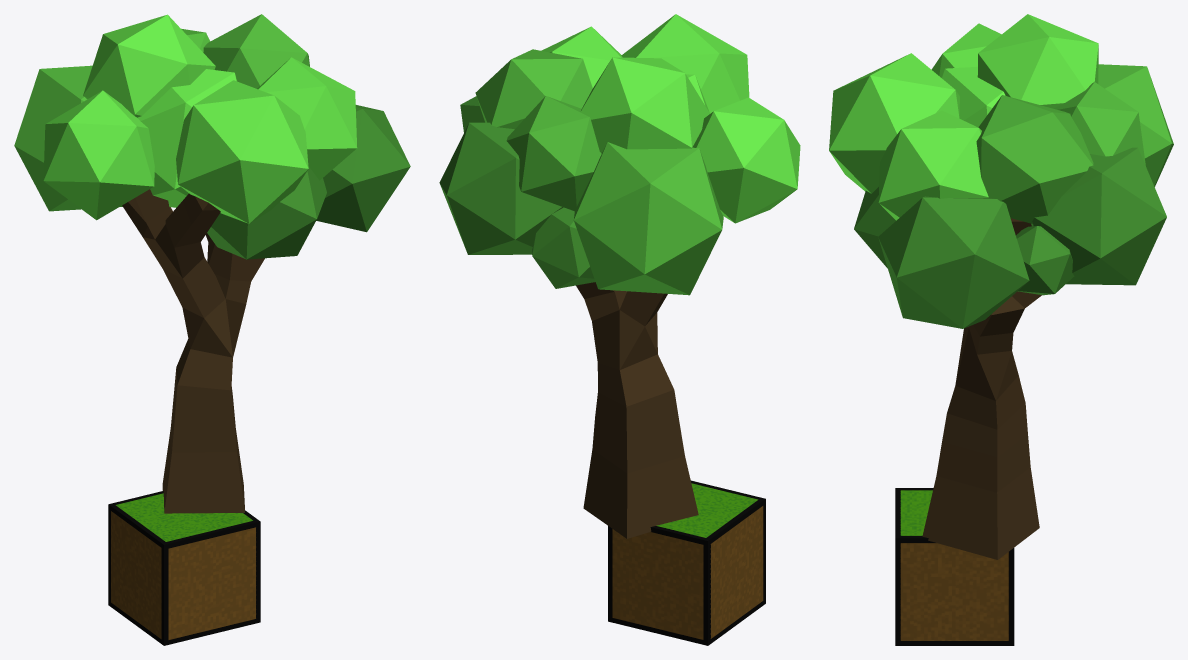
Rendered from TreeMassive1.glb.
The picture shows the model from 3 angles, left to right: view 1: azimuth 30°, elevation 25°; view 2: azimuth 150°, elevation 25°; view 3: azimuth 270°, elevation 25°; orthographic projection. The views are drawn at different scales.
Visible parts, largest first — view 1: Tree big, Grass_v2Baked, Icosphere.011, Icosphere.012, Icosphere.018, Icosphere.016, Icosphere.015, Icosphere.020, Icosphere.013, Icosphere.010, Icosphere.003; view 2: Tree big, Grass_v2Baked, Icosphere.013, Icosphere.014, Icosphere.012, Icosphere.018, Icosphere.017, Icosphere.003, Icosphere.011, Icosphere.019, Icosphere.015, Icosphere.016; view 3: Tree big, Icosphere.016, Grass_v2Baked, Icosphere.014, Icosphere.003, Icosphere.011, Icosphere.015, Icosphere.018, Icosphere.017, Icosphere.013, Icosphere.009, Icosphere.010 (+2 smaller).
Boxes of the visible parts, bbox=[...] form: Tree big: bbox=[122, 189, 264, 513]; Grass_v2Baked: bbox=[108, 491, 260, 645]; Icosphere.011: bbox=[176, 80, 308, 223]; Icosphere.012: bbox=[43, 90, 154, 220]; Icosphere.018: bbox=[83, 14, 215, 117]; Icosphere.016: bbox=[316, 105, 410, 232]; Icosphere.015: bbox=[257, 57, 357, 180]; Icosphere.020: bbox=[207, 166, 326, 259]; Icosphere.013: bbox=[14, 65, 122, 211]; Icosphere.010: bbox=[137, 69, 237, 207]; Icosphere.003: bbox=[203, 14, 309, 88]; Tree big: bbox=[576, 282, 698, 538]; Grass_v2Baked: bbox=[608, 480, 765, 645]; Icosphere.013: bbox=[573, 142, 723, 295]; Icosphere.014: bbox=[439, 122, 563, 254]; Icosphere.012: bbox=[692, 97, 800, 223]; Icosphere.018: bbox=[580, 57, 709, 153]; Icosphere.017: bbox=[506, 96, 601, 211]; Icosphere.003: bbox=[475, 49, 592, 129]; Icosphere.011: bbox=[621, 14, 749, 113]; Icosphere.019: bbox=[532, 207, 595, 288]; Icosphere.015: bbox=[541, 26, 622, 87]; Icosphere.016: bbox=[460, 96, 484, 132]; Tree big: bbox=[922, 218, 1041, 559]; Icosphere.016: bbox=[878, 196, 1029, 328]; Grass_v2Baked: bbox=[895, 488, 1014, 645]; Icosphere.014: bbox=[1031, 147, 1166, 285]; Icosphere.003: bbox=[976, 95, 1093, 223]; Icosphere.011: bbox=[829, 53, 959, 193]; Icosphere.015: bbox=[878, 110, 988, 220]; Icosphere.018: bbox=[977, 14, 1098, 108]; Icosphere.017: bbox=[1054, 82, 1145, 165]; Icosphere.013: bbox=[1098, 64, 1173, 186]; Icosphere.009: bbox=[1016, 226, 1074, 295]; Icosphere.010: bbox=[942, 66, 1005, 127].
Bounding box in the file's own units: 3.38 × 5.44 × 2.84.
Materials: 5 (1 with a texture image).
